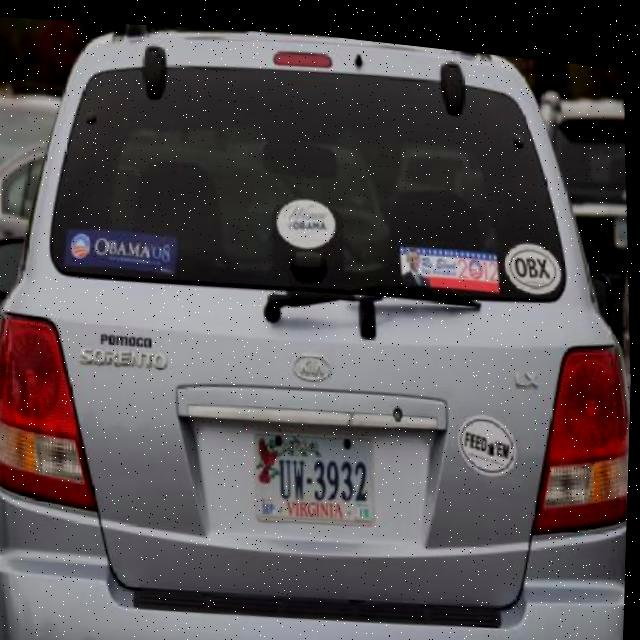license_plate: (254, 417, 381, 525), (613, 202, 630, 238)
